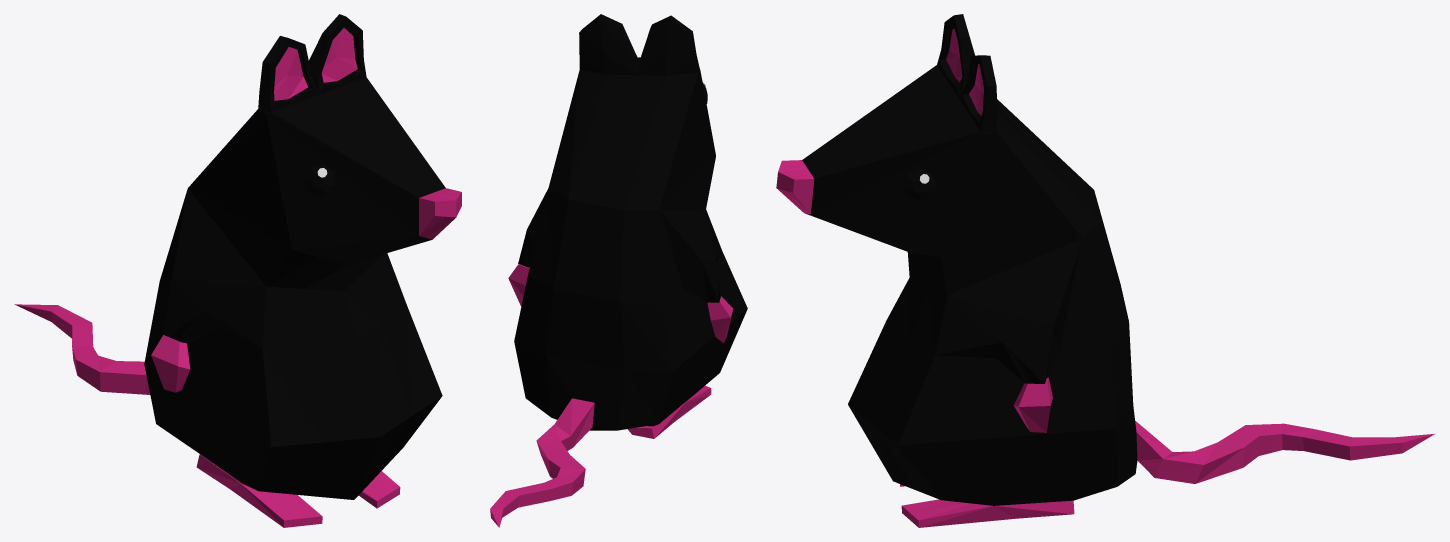
File: RGb.obj
3 views of the same model, side by side, from view 1: azimuth 30°, elevation 25°; view 2: azimuth 150°, elevation 25°; view 3: azimuth 270°, elevation 25° (orthographic). The views are drawn at different scales.
Visible parts, largest first — view 1: Rat.011_buffer-0-mesh-0.103, Tail.003_buffer-0-mesh-0.111, Rleg.005_buffer-0-mesh-0.104, Ears_buffer-0-mesh-0.114, Rshoulder.004_buffer-0-mesh-0.106, Nose.004_buffer-0-mesh-0.110, Rhand.004_buffer-0-mesh-0.108, Lleg.005_buffer-0-mesh-0.105, Eyes.001_buffer-0-mesh-0.112; view 2: Rat.011_buffer-0-mesh-0.103, Tail.003_buffer-0-mesh-0.111, Rshoulder.004_buffer-0-mesh-0.106, Rleg.005_buffer-0-mesh-0.104, Rhand.004_buffer-0-mesh-0.108, Lhand.004_buffer-0-mesh-0.109, Lshoulder.004_buffer-0-mesh-0.107; view 3: Rat.011_buffer-0-mesh-0.103, Tail.003_buffer-0-mesh-0.111, Lleg.005_buffer-0-mesh-0.105, Lshoulder.004_buffer-0-mesh-0.107, Lhand.004_buffer-0-mesh-0.109, Nose.004_buffer-0-mesh-0.110, Ears_buffer-0-mesh-0.114, Eyes.001_buffer-0-mesh-0.112.
Boxes of the visible parts, box(x1,y1,x2,y2) form: Rat.011_buffer-0-mesh-0.103: box(144, 14, 445, 499); Tail.003_buffer-0-mesh-0.111: box(14, 304, 150, 394); Rleg.005_buffer-0-mesh-0.104: box(196, 454, 322, 527); Ears_buffer-0-mesh-0.114: box(274, 28, 357, 100); Rshoulder.004_buffer-0-mesh-0.106: box(162, 279, 216, 343); Nose.004_buffer-0-mesh-0.110: box(419, 188, 461, 239); Rhand.004_buffer-0-mesh-0.108: box(151, 335, 190, 392); Lleg.005_buffer-0-mesh-0.105: box(358, 471, 400, 508); Eyes.001_buffer-0-mesh-0.112: box(304, 165, 335, 196); Rat.011_buffer-0-mesh-0.103: box(514, 14, 747, 430); Tail.003_buffer-0-mesh-0.111: box(490, 398, 594, 527); Rshoulder.004_buffer-0-mesh-0.106: box(683, 259, 720, 302); Rleg.005_buffer-0-mesh-0.104: box(627, 385, 711, 438); Rhand.004_buffer-0-mesh-0.108: box(707, 296, 733, 343); Lhand.004_buffer-0-mesh-0.109: box(508, 264, 529, 306); Lshoulder.004_buffer-0-mesh-0.107: box(518, 228, 534, 267); Rat.011_buffer-0-mesh-0.103: box(802, 14, 1137, 505); Tail.003_buffer-0-mesh-0.111: box(1135, 420, 1435, 483); Lleg.005_buffer-0-mesh-0.105: box(901, 499, 1074, 527); Lshoulder.004_buffer-0-mesh-0.107: box(996, 327, 1059, 383); Lhand.004_buffer-0-mesh-0.109: box(1013, 377, 1052, 432); Nose.004_buffer-0-mesh-0.110: box(776, 160, 814, 214); Ears_buffer-0-mesh-0.114: box(946, 28, 983, 115); Eyes.001_buffer-0-mesh-0.112: box(903, 169, 936, 201).
Bounding box in the file's own units: 1.15 × 2.03 × 2.59.
